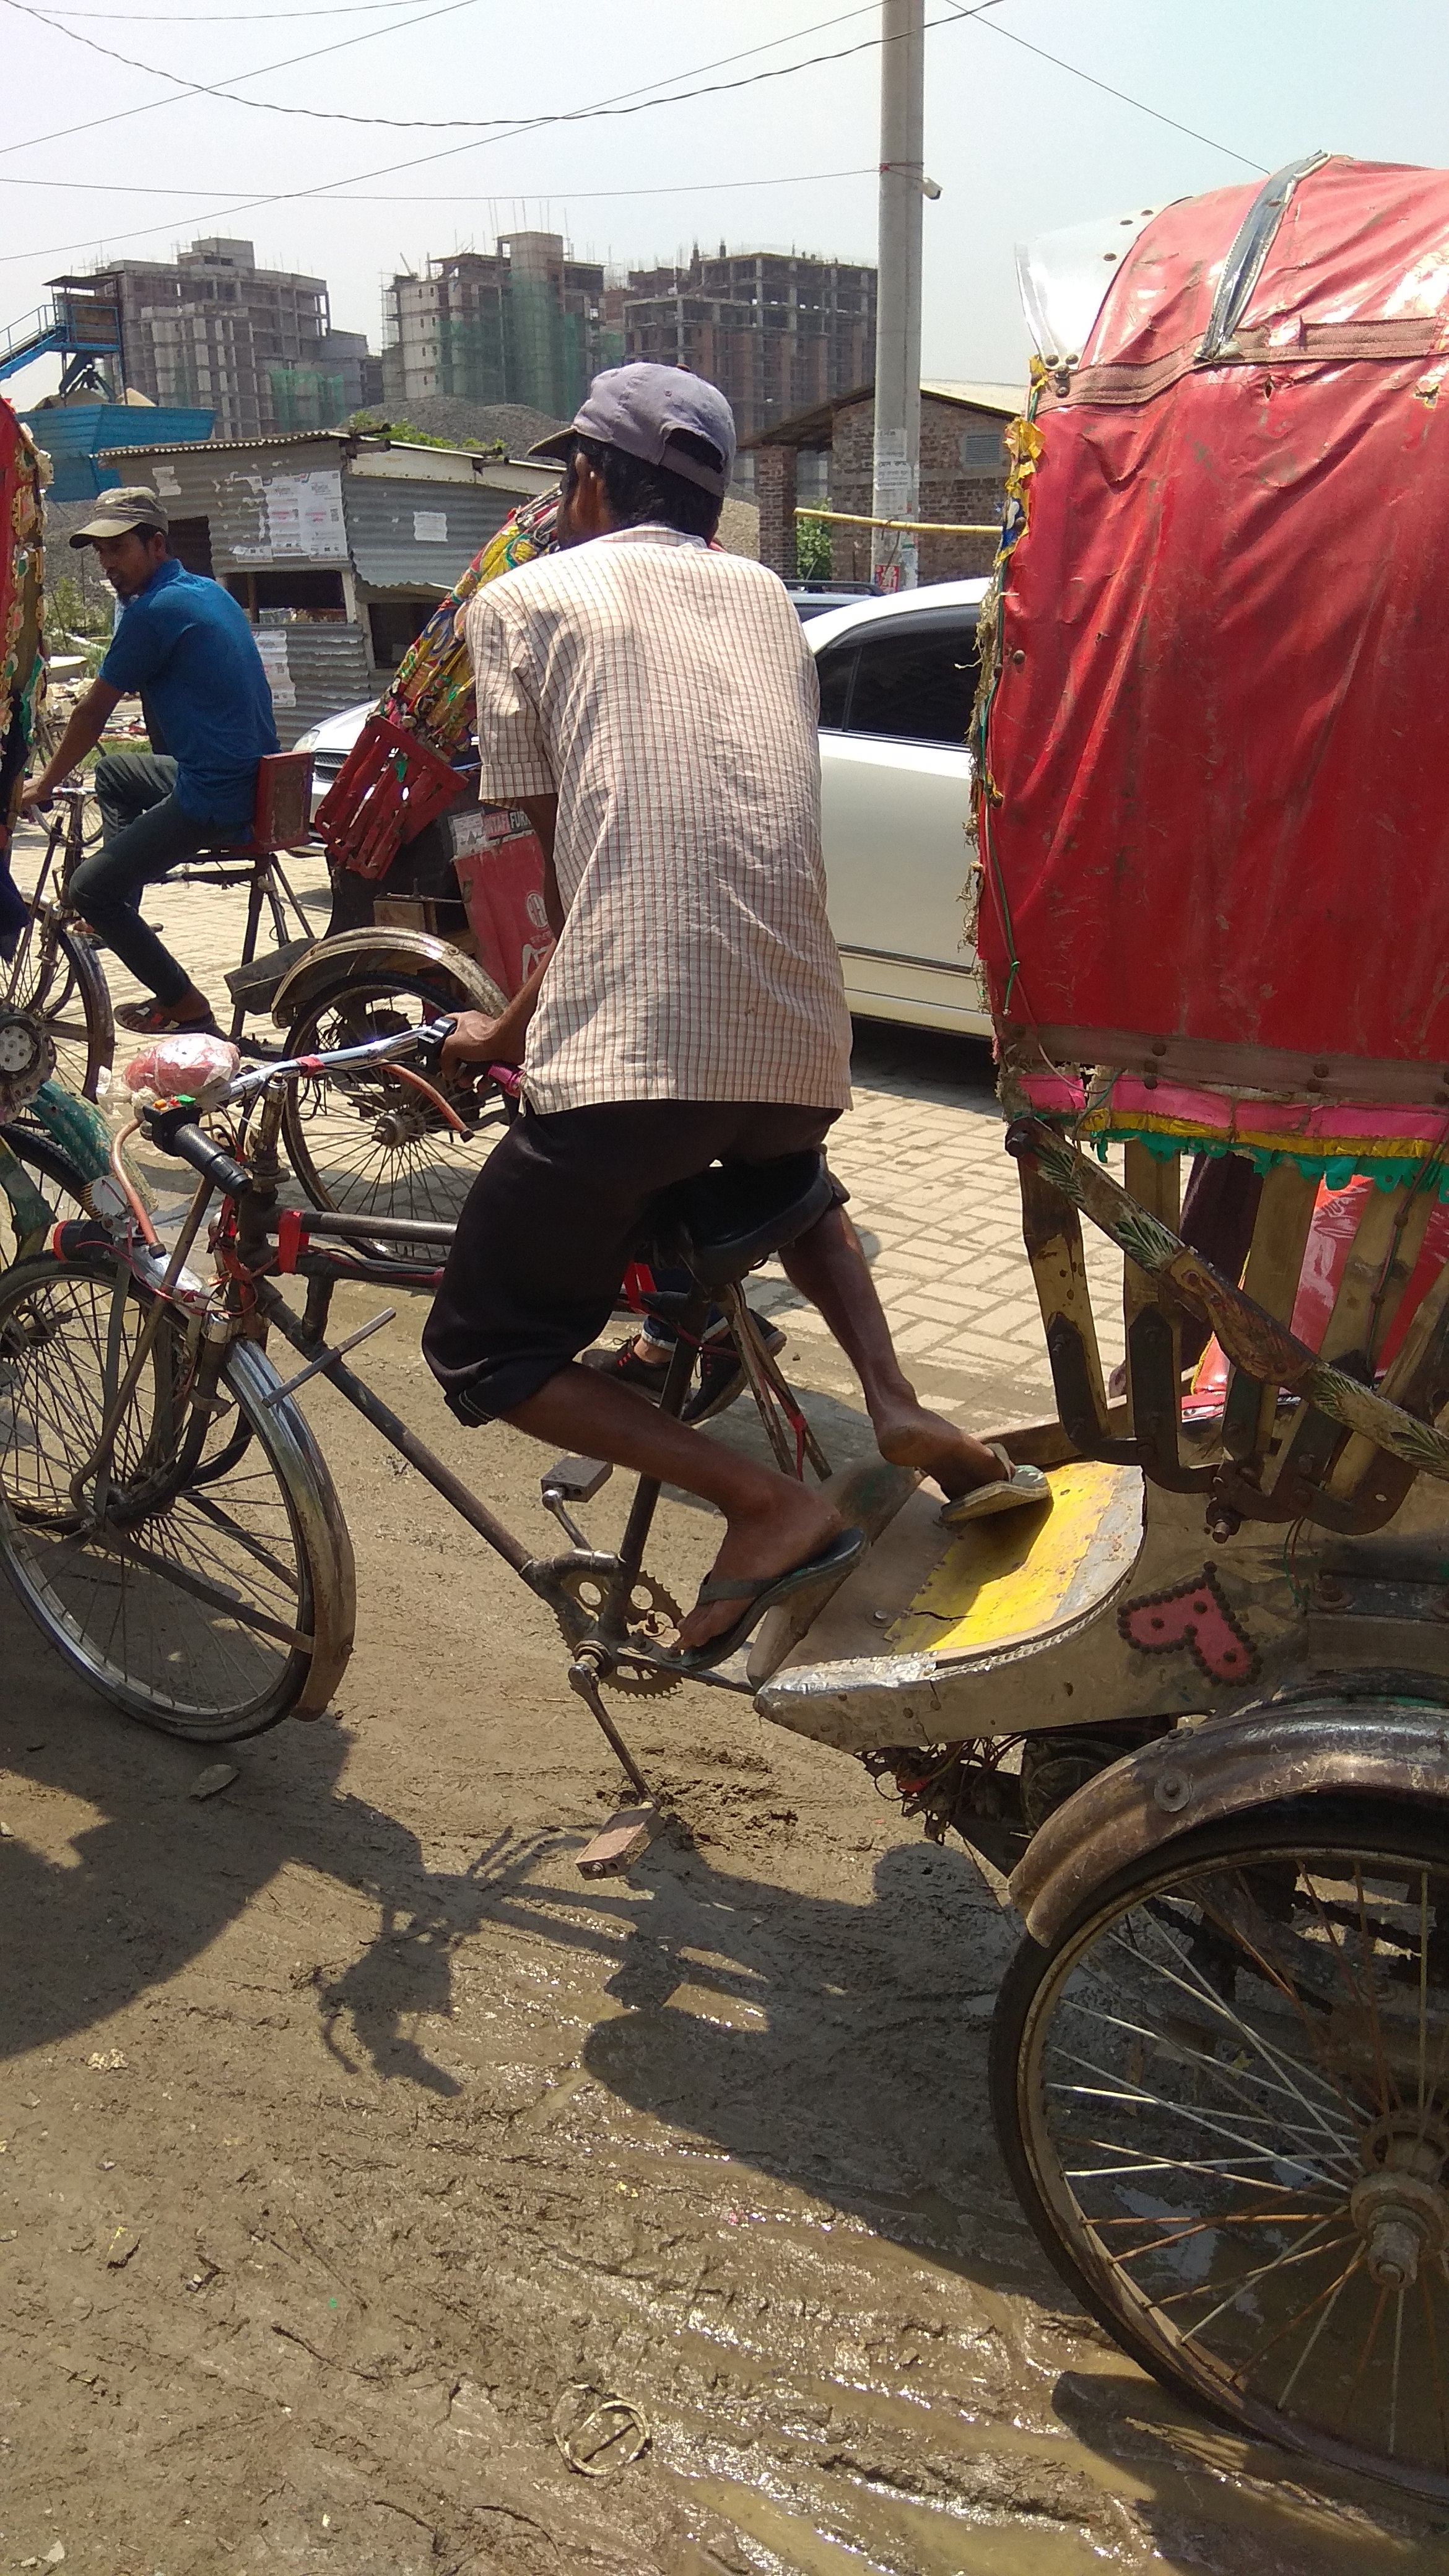Rickshaw: (9, 147, 1437, 2072), (299, 478, 603, 1062)
